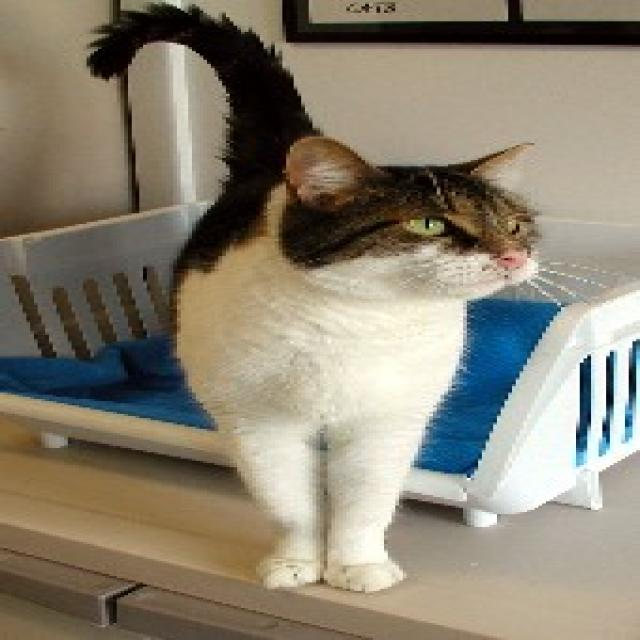Cats: (83, 0, 617, 593)
